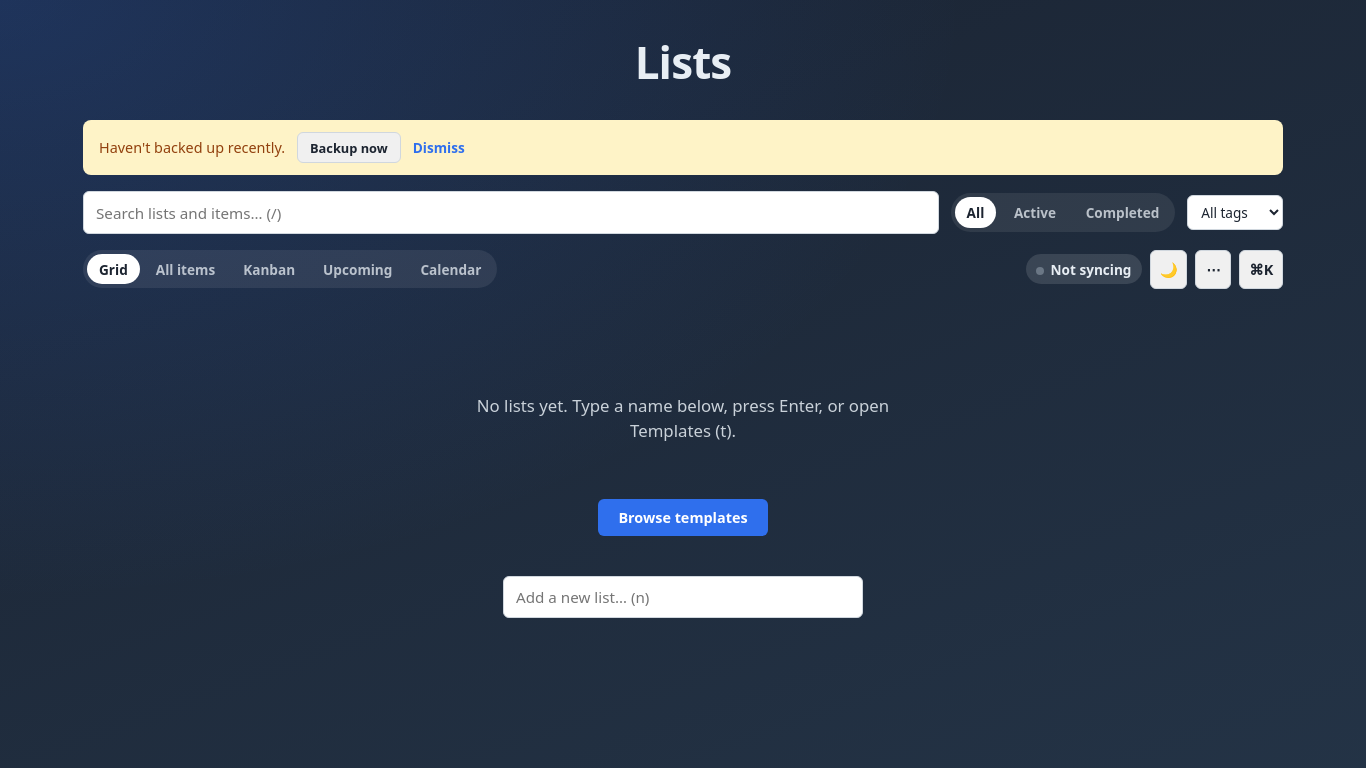
it: persists lists to localStorage
Type "Saved" into the field labelled "Add a new list… (n)" at x=683, y=597, box [503, 576, 863, 618]
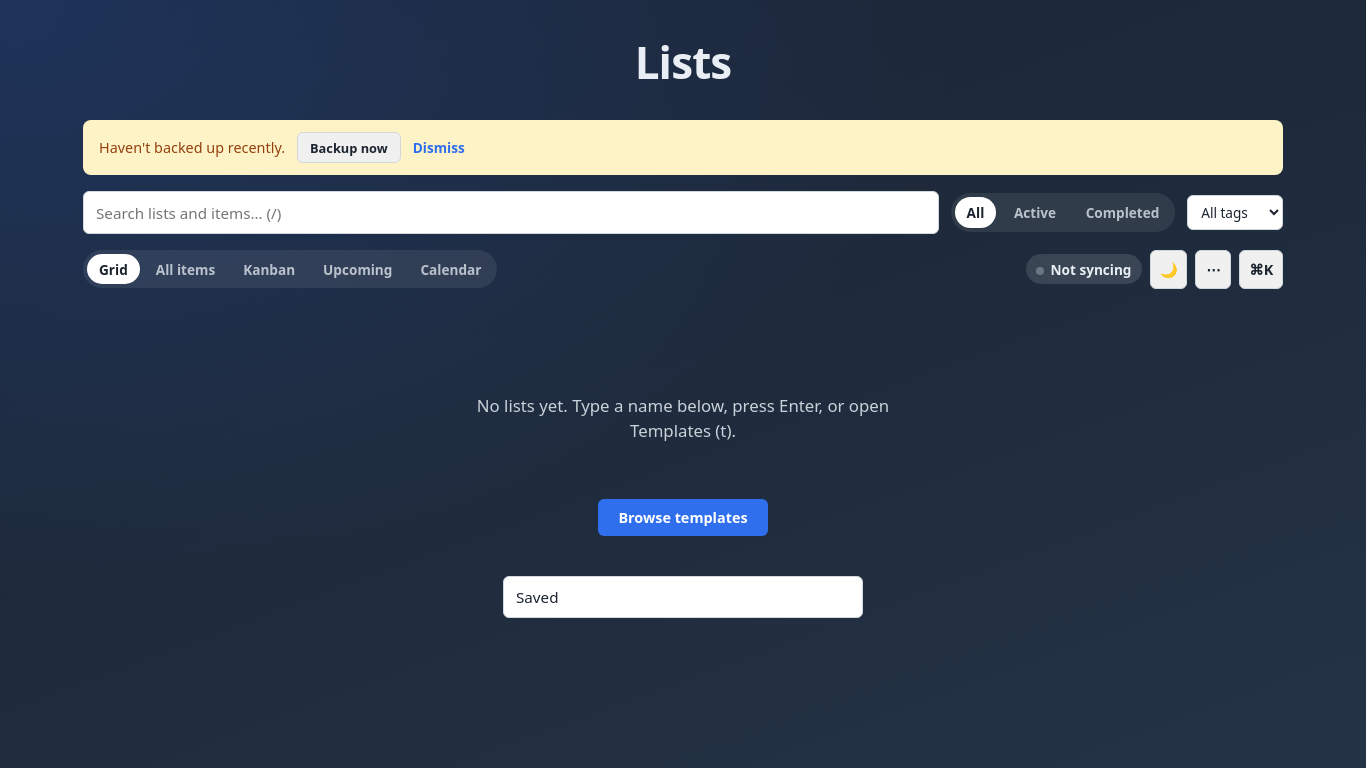
Press Enter in the field named "Add a new list", box [503, 576, 863, 618]
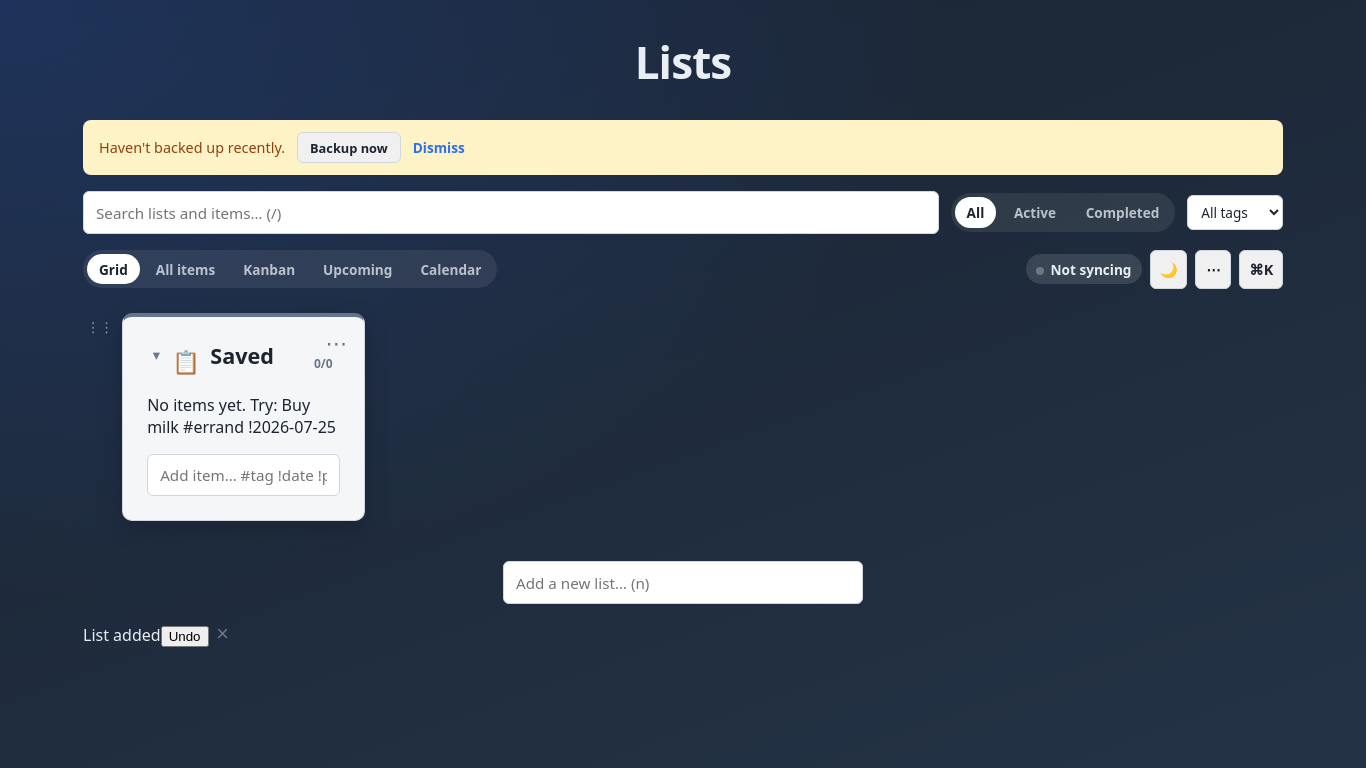
Now the button "Saved" is shown, box [210, 341, 274, 370]
